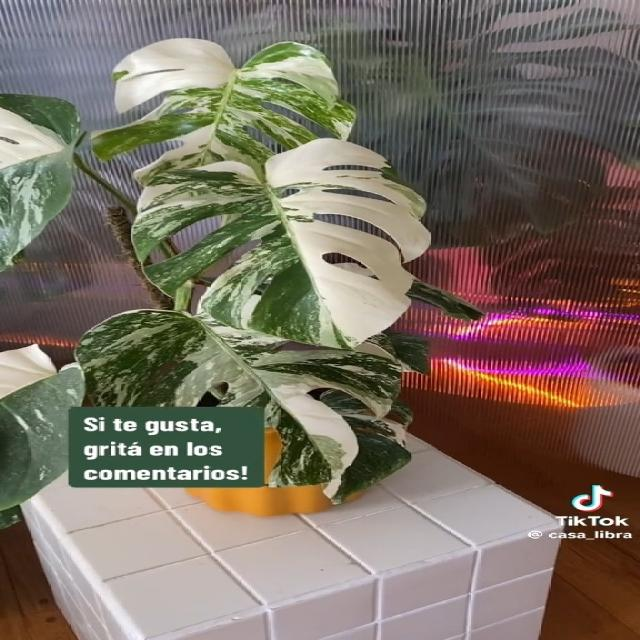lisc_variegata: (75, 308, 432, 507), (129, 137, 432, 348), (89, 38, 354, 184), (0, 93, 83, 278), (0, 343, 88, 512), (403, 280, 485, 323)
roslina_variegata: (0, 37, 486, 516)
